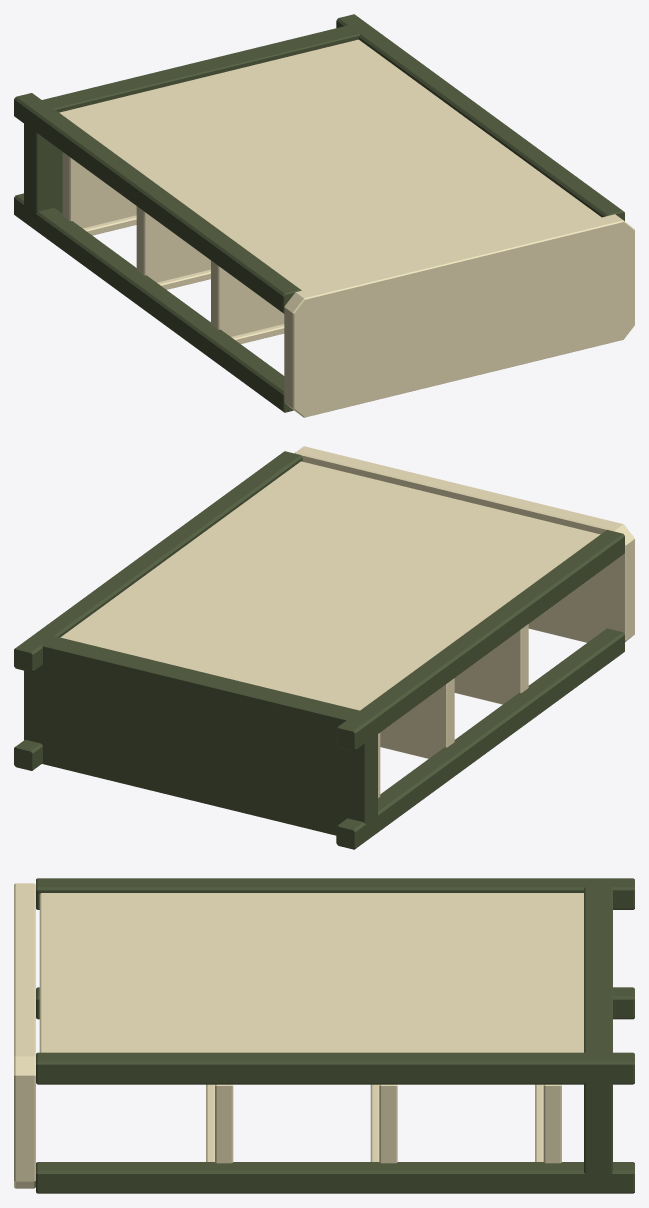
File: fixture_01_wall_shelf.glb
The picture shows the model from 3 angles, top to bottom: view 1: azimuth 30°, elevation 25°; view 2: azimuth 150°, elevation 25°; view 3: azimuth 270°, elevation 25°; orthographic projection. The views are drawn at different scales.
Visible parts, largest first — view 1: fixture_01_wall_shelf; view 2: fixture_01_wall_shelf; view 3: fixture_01_wall_shelf.
Boxes of the visible parts, x1,y1,x2,y2 form: fixture_01_wall_shelf: [14, 14, 634, 417]; fixture_01_wall_shelf: [14, 446, 634, 849]; fixture_01_wall_shelf: [14, 878, 634, 1193].
Size of what is drawn, in the model's own units: 1.2 by 0.4 by 1.7.
